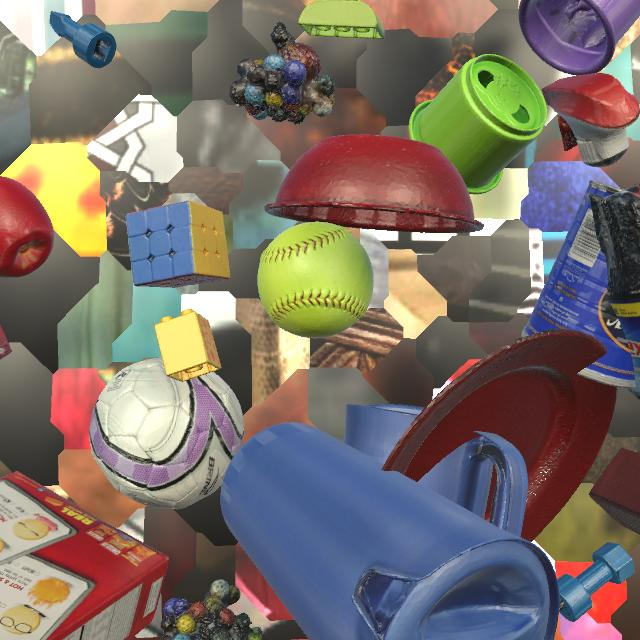ycb_002_master_chef_can: (521, 180, 636, 388)
ycb_003_cracker_box: (0, 471, 169, 640), (0, 326, 13, 360)
ycb_013_apple: (0, 176, 54, 278)
